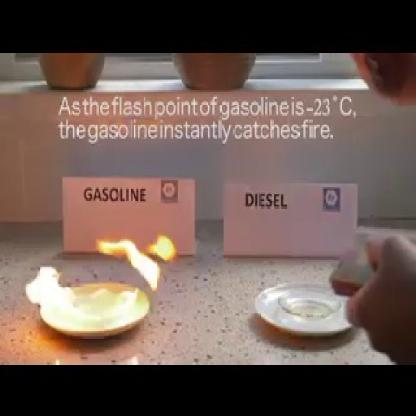fire: (24, 260, 143, 332), (96, 232, 162, 295), (148, 233, 179, 265)
